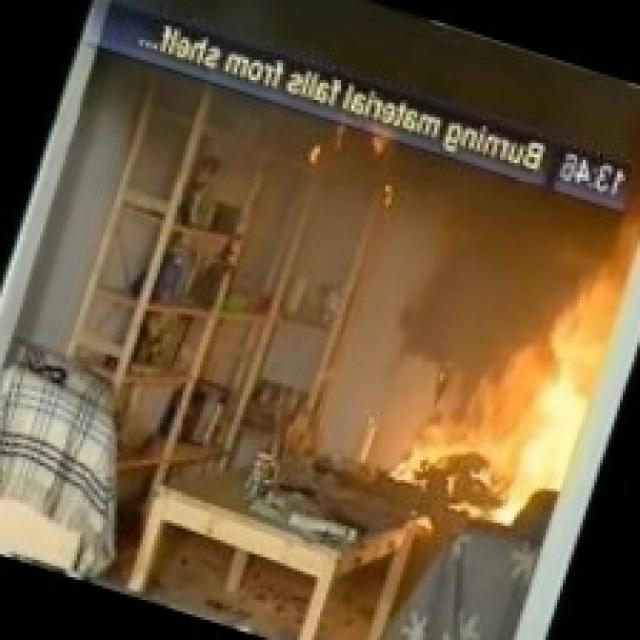fire: (385, 157, 640, 537)
